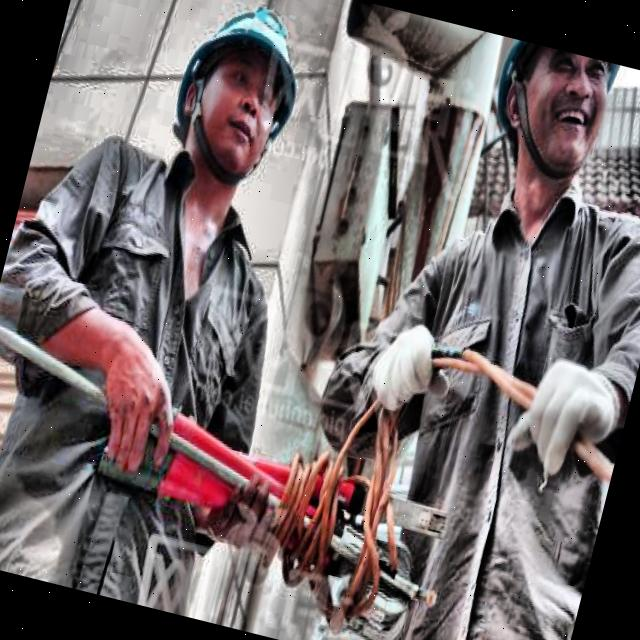helmet: (151, 0, 332, 214), (466, 36, 637, 219)
